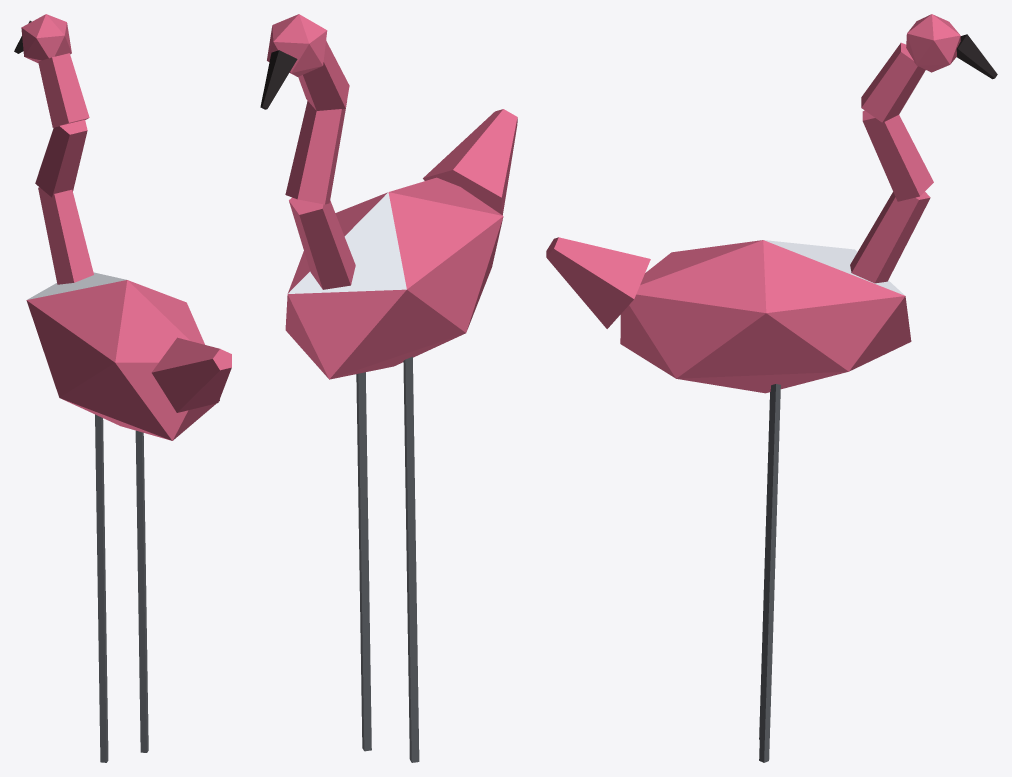
Rendered from flamingo.glb.
3 views of the same model, side by side, from view 1: azimuth 30°, elevation 25°; view 2: azimuth 150°, elevation 25°; view 3: azimuth 270°, elevation 25° (orthographic). The views are drawn at different scales.
Visible parts, largest first — view 1: flamingo; view 2: flamingo; view 3: flamingo.
Boxes of the visible parts, x1=… form: flamingo: x1=14, y1=14, x2=231, y2=762; flamingo: x1=260, y1=14, x2=517, y2=762; flamingo: x1=546, y1=14, x2=997, y2=762.
Bounding box in the file's own units: 0.2538 × 1.3 × 0.7233.
